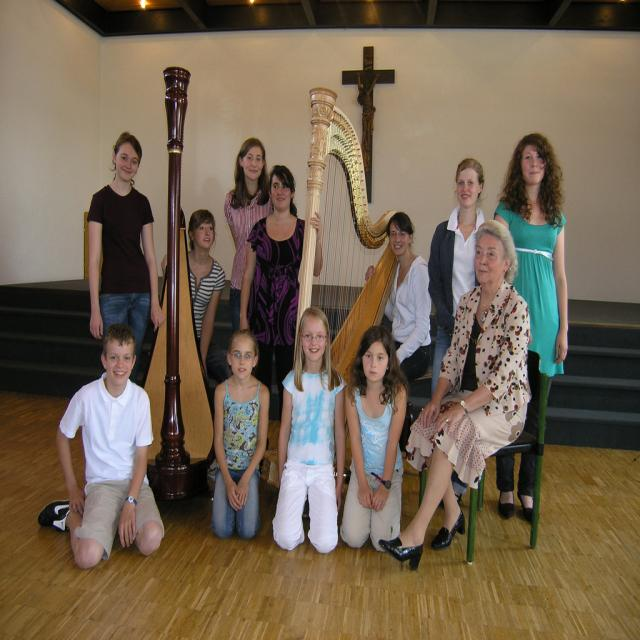harp: (126, 62, 220, 490), (292, 84, 411, 398)
